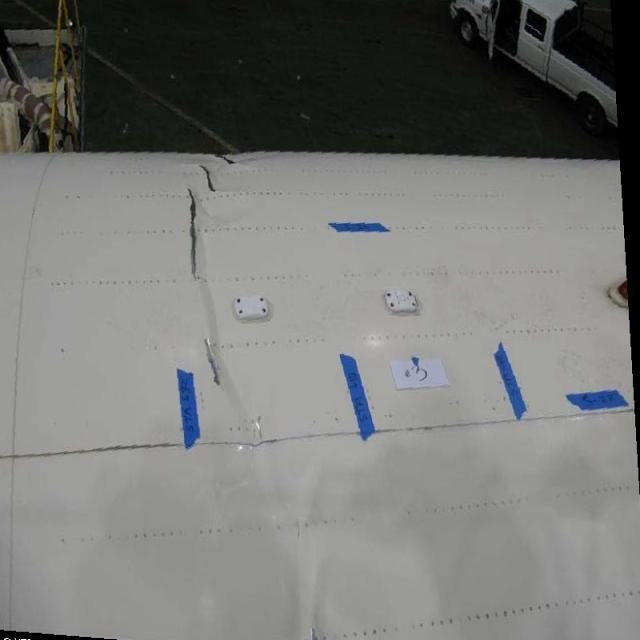crack: (186, 185, 202, 282), (202, 337, 223, 391), (200, 163, 220, 196)
